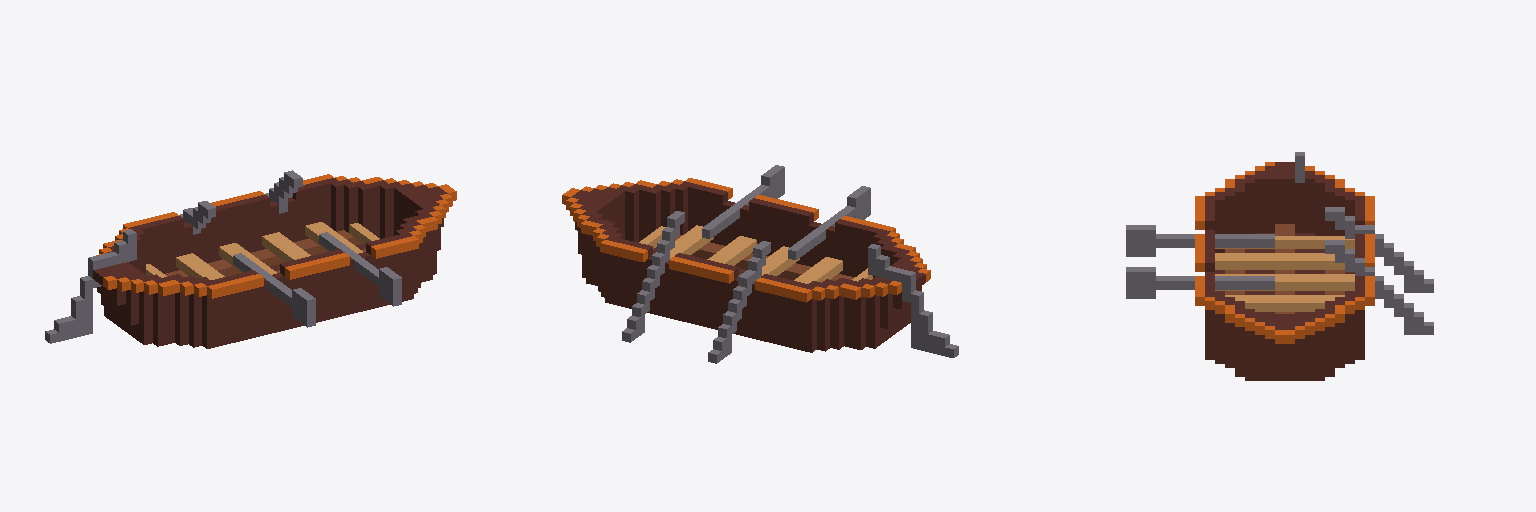
The picture shows the model from 3 angles: view 1: azimuth 30°, elevation 25°; view 2: azimuth 150°, elevation 25°; view 3: azimuth 270°, elevation 25°; orthographic projection.
Visible parts, largest first — view 1: object 1; view 2: object 1; view 3: object 1.
Boxes of the visible parts, box(x1,y1,x2,y2) form: object 1: box(45, 170, 456, 348); object 1: box(562, 165, 958, 363); object 1: box(1126, 152, 1433, 380).
Bounding box in the file's own units: 4.6 × 1 × 3.1.
1 materials, 1 textured.